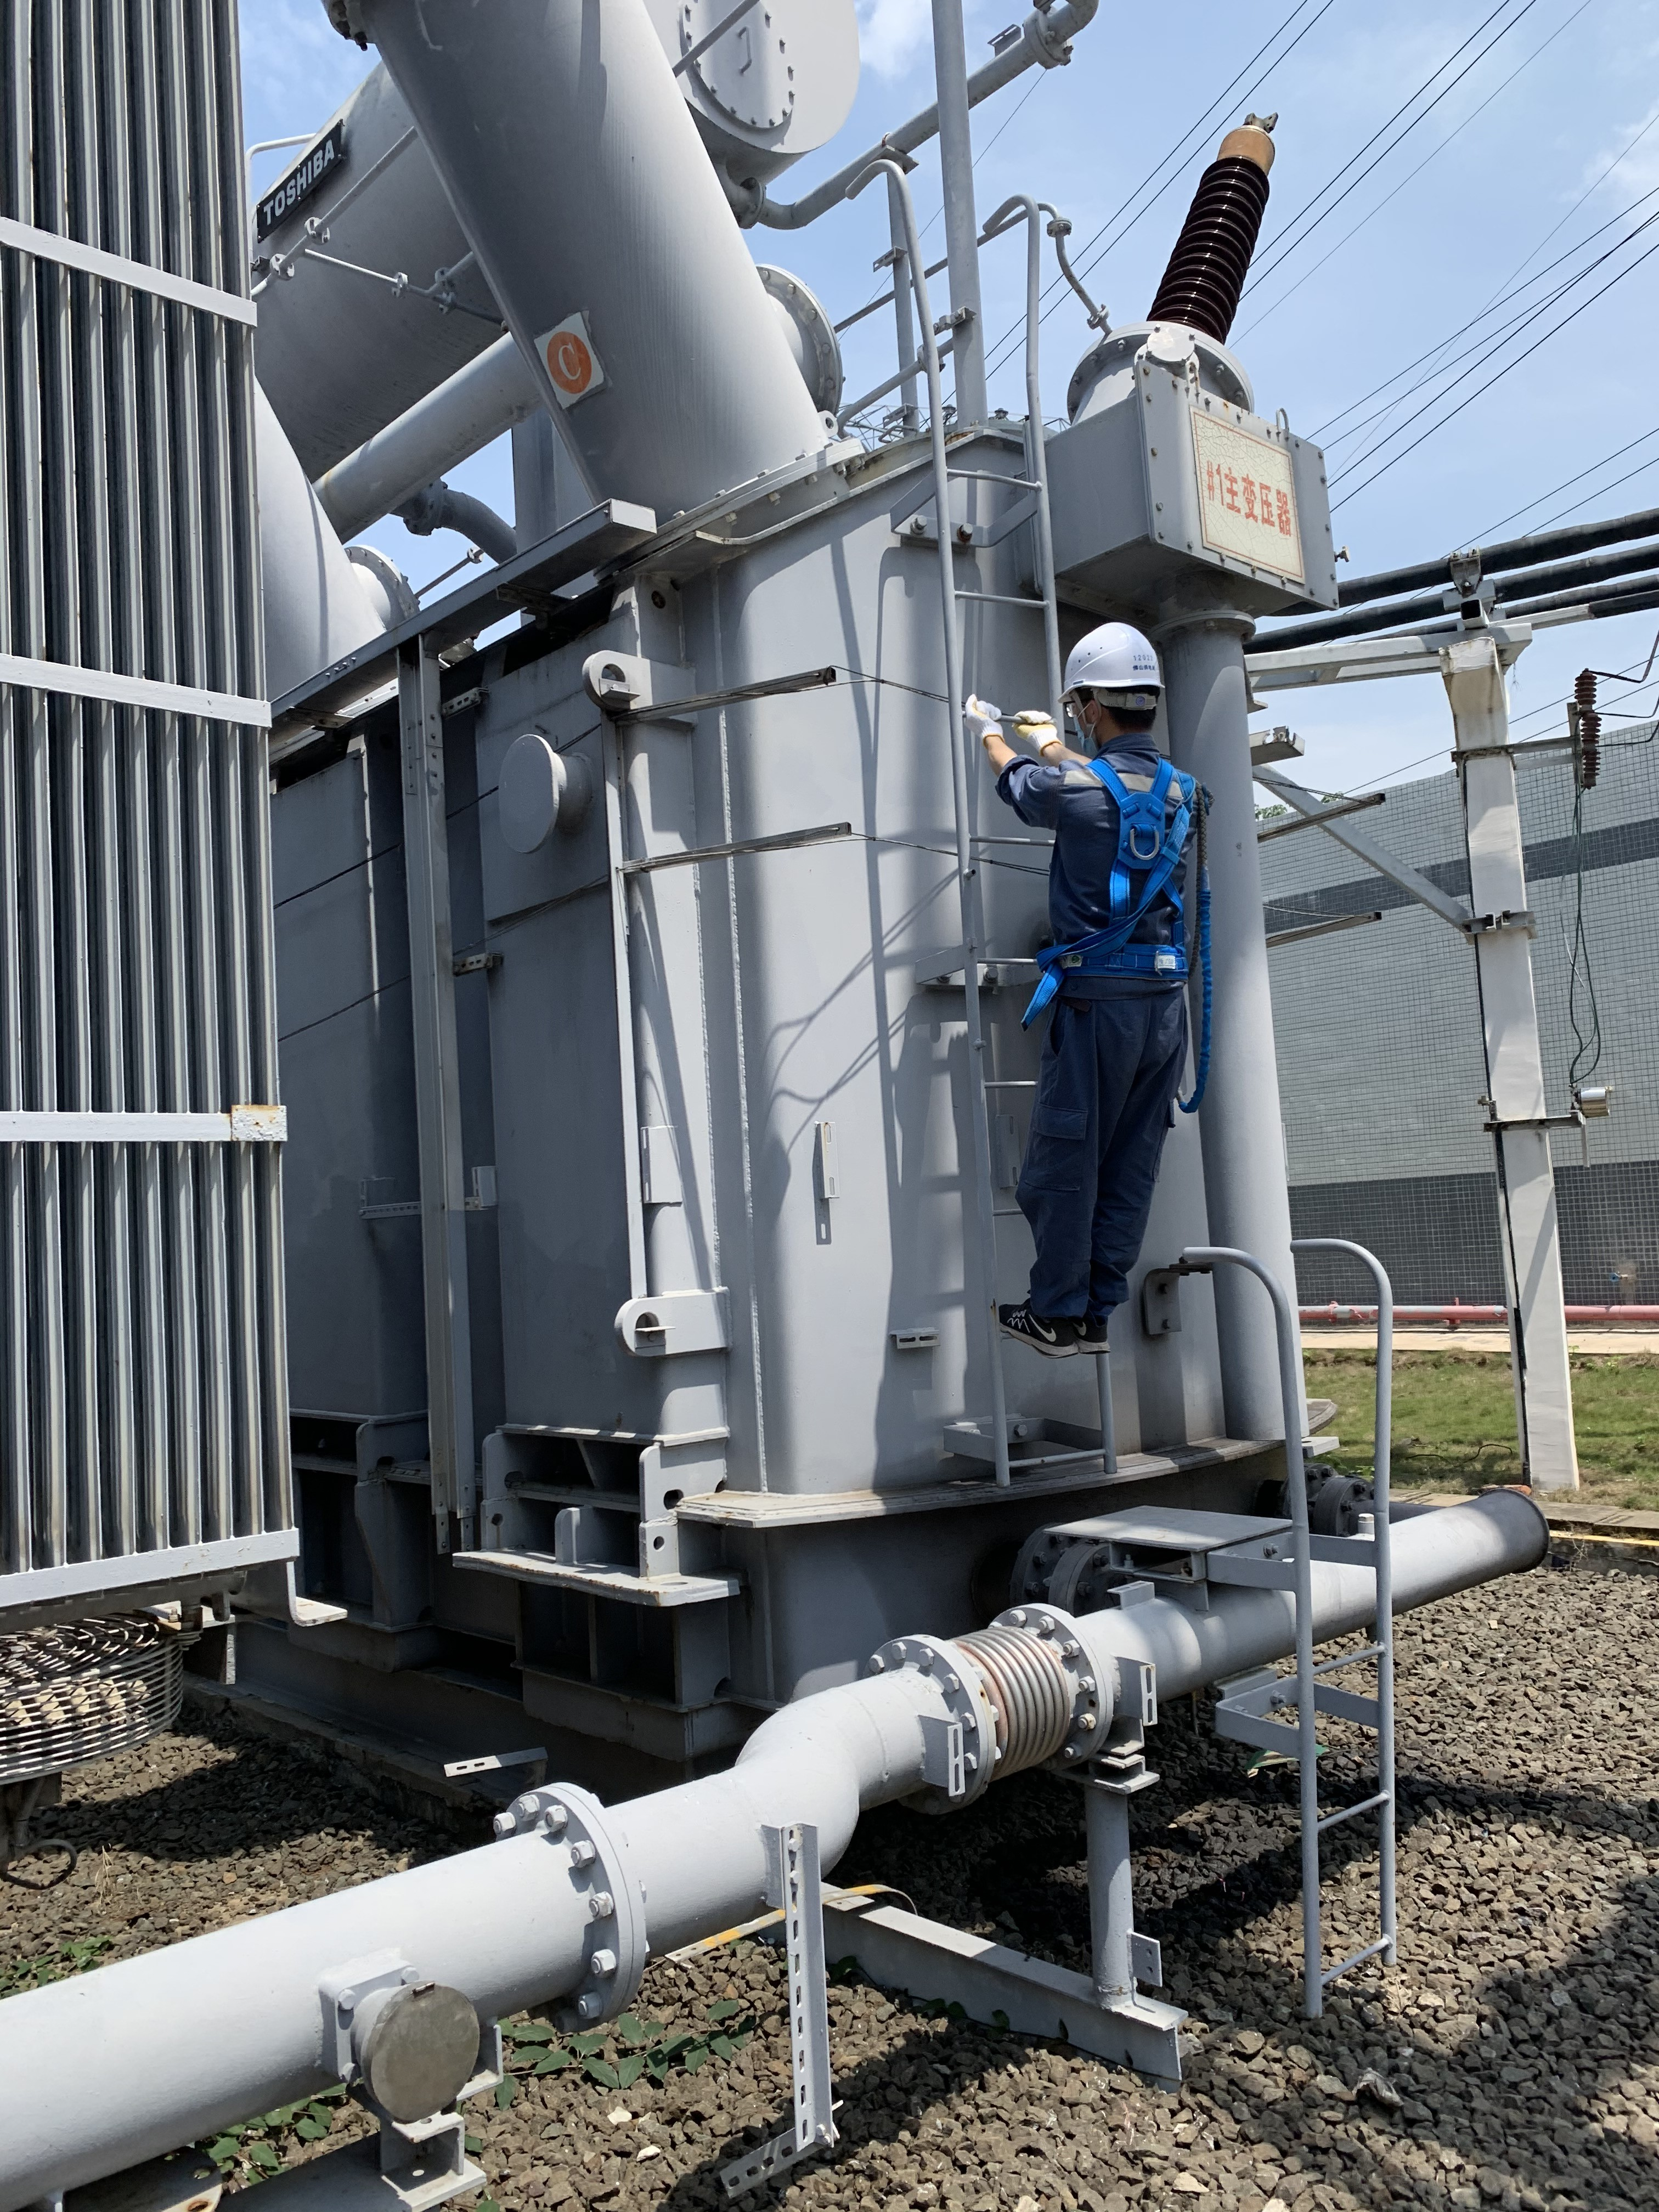downsuit: (1012, 1001, 1206, 1310)
upsuit: (995, 733, 1227, 982)
wrongtop: (986, 728, 1028, 805)
